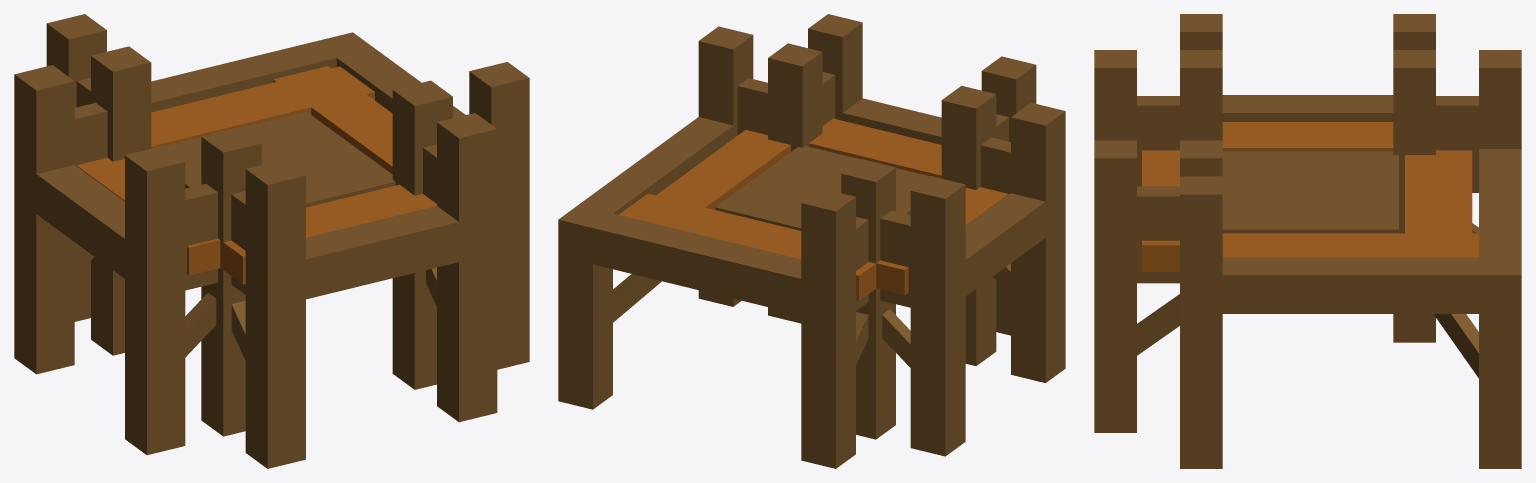
Rendered from FourWayQuarterFilled.fbx.
The picture shows the model from 3 angles, left to right: view 1: azimuth 30°, elevation 25°; view 2: azimuth 150°, elevation 25°; view 3: azimuth 270°, elevation 25°; orthographic projection. The views are drawn at different scales.
Parts seen in each view (by area): view 1: Bridge - Four-way Quarter Filled; view 2: Bridge - Four-way Quarter Filled; view 3: Bridge - Four-way Quarter Filled.
Part boxes in pixels (bbox=[...]): Bridge - Four-way Quarter Filled: bbox=[14, 14, 529, 468]; Bridge - Four-way Quarter Filled: bbox=[558, 14, 1065, 468]; Bridge - Four-way Quarter Filled: bbox=[1094, 14, 1521, 468].
Bounding box in the file's own units: 100 × 70.89 × 100.
